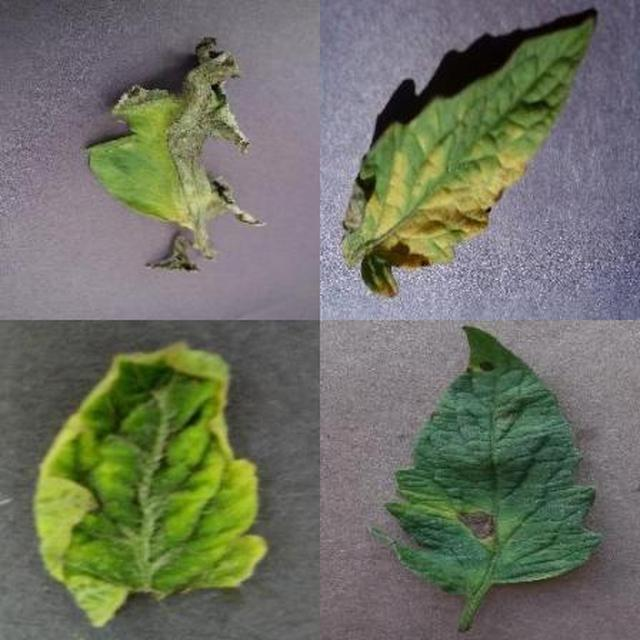Late Blight Leaf: (216, 220, 640, 640)
